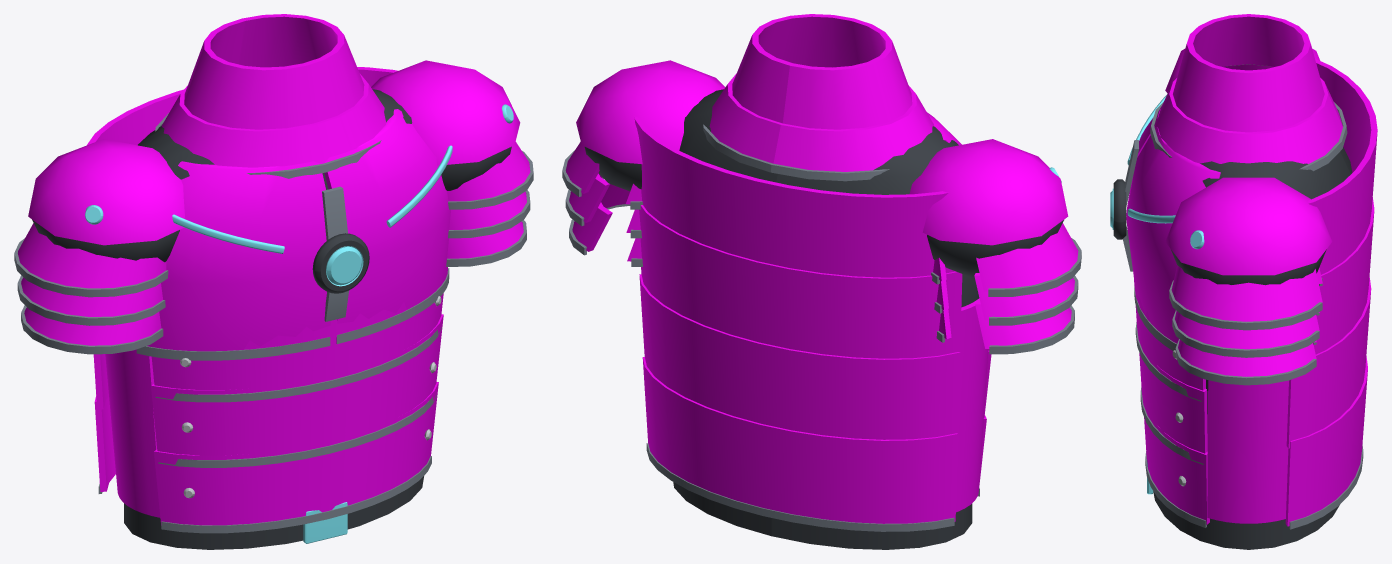
Rendered from objet_armure4_plastron.glb.
The picture shows the model from 3 angles, left to right: view 1: azimuth 30°, elevation 25°; view 2: azimuth 150°, elevation 25°; view 3: azimuth 270°, elevation 25°; orthographic projection. The views are drawn at different scales.
Visible parts, largest first — view 1: poitrine__plastron_teinte.010, ventre__plastron_teinte.010, poitrine__plastron_acier_lisere.002, ventre__plastron_acier_lisere.002, poitrine__plastron_teinte_sombre.008, ventre__plastron_teinte_sombre.008, poitrine__plastron_lueur.002, ventre__plastron_lueur.002; view 2: poitrine__plastron_teinte.010, ventre__plastron_teinte.010, poitrine__plastron_teinte_sombre.008, poitrine__plastron_acier_lisere.002, ventre__plastron_teinte_sombre.008, ventre__plastron_acier_lisere.002; view 3: poitrine__plastron_teinte.010, ventre__plastron_teinte.010, poitrine__plastron_acier_lisere.002, poitrine__plastron_teinte_sombre.008, ventre__plastron_teinte_sombre.008, ventre__plastron_acier_lisere.002, poitrine__plastron_lueur.002.
Boxes of the visible parts, x1,y1,x2,y2 form: poitrine__plastron_teinte.010: (18, 14, 530, 351); ventre__plastron_teinte.010: (93, 293, 443, 525); poitrine__plastron_acier_lisere.002: (14, 113, 533, 360); ventre__plastron_acier_lisere.002: (98, 327, 441, 533); poitrine__plastron_teinte_sombre.008: (32, 89, 511, 293); ventre__plastron_teinte_sombre.008: (124, 476, 423, 549); poitrine__plastron_lueur.002: (85, 104, 513, 286); ventre__plastron_lueur.002: (303, 502, 347, 543); poitrine__plastron_teinte.010: (566, 14, 1078, 358); ventre__plastron_teinte.010: (639, 274, 991, 523); poitrine__plastron_teinte_sombre.008: (584, 89, 1063, 307); poitrine__plastron_acier_lisere.002: (562, 124, 1081, 354); ventre__plastron_teinte_sombre.008: (673, 482, 972, 549); ventre__plastron_acier_lisere.002: (646, 443, 979, 531); poitrine__plastron_teinte.010: (1126, 14, 1377, 376); ventre__plastron_teinte.010: (1134, 277, 1371, 526); poitrine__plastron_acier_lisere.002: (1122, 64, 1347, 385); poitrine__plastron_teinte_sombre.008: (1113, 147, 1352, 285); ventre__plastron_teinte_sombre.008: (1153, 379, 1339, 549); ventre__plastron_acier_lisere.002: (1135, 322, 1363, 529); poitrine__plastron_lueur.002: (1110, 95, 1204, 249).
Size of the model in its own units: 0.4163 by 0.3672 by 0.2016.
